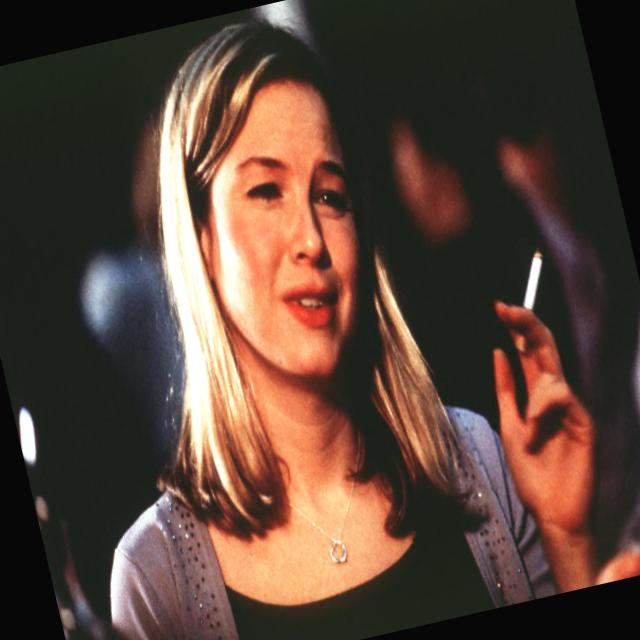cigarette: (487, 234, 590, 406)
